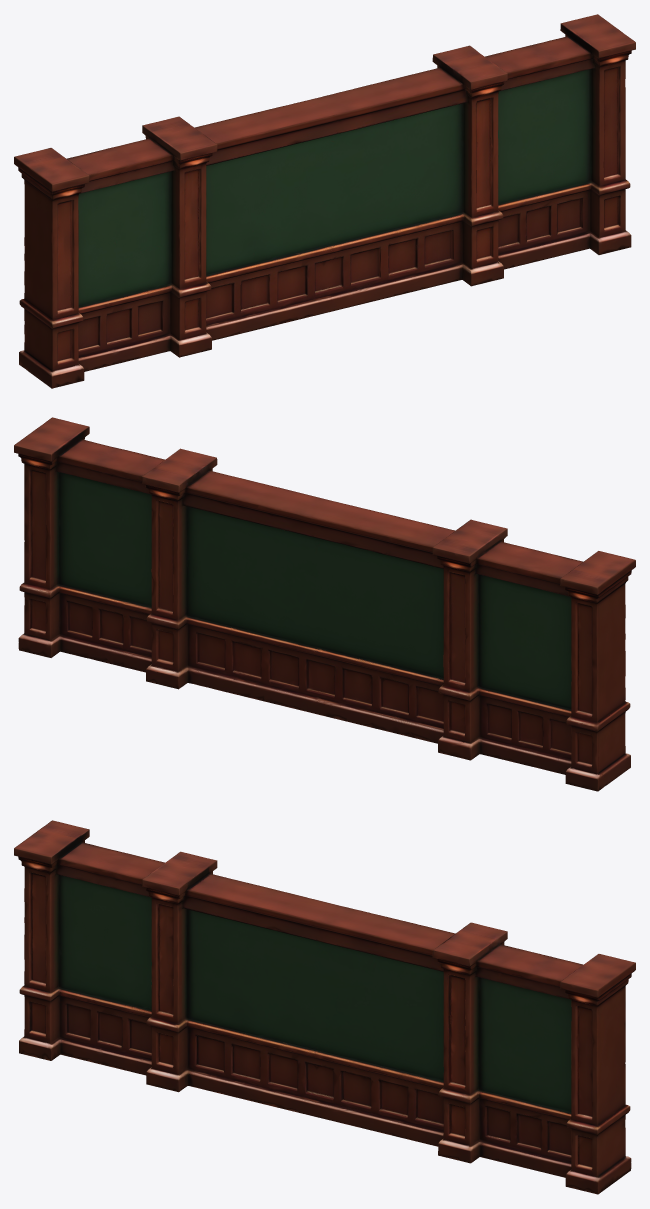
File: wall-blank.glb
3 views of the same model, one above another, from view 1: azimuth 30°, elevation 25°; view 2: azimuth 150°, elevation 25°; view 3: azimuth 330°, elevation 25° (orthographic).
Parts seen in each view (by area): view 1: tripo_node_81f78e80-fa7b-45a2-bda0-d12c6b181274; view 2: tripo_node_81f78e80-fa7b-45a2-bda0-d12c6b181274; view 3: tripo_node_81f78e80-fa7b-45a2-bda0-d12c6b181274.
Part boxes in pixels (<box>): tripo_node_81f78e80-fa7b-45a2-bda0-d12c6b181274: <box>14,14,635,388</box>; tripo_node_81f78e80-fa7b-45a2-bda0-d12c6b181274: <box>14,417,635,791</box>; tripo_node_81f78e80-fa7b-45a2-bda0-d12c6b181274: <box>14,820,635,1194</box>.
Bounding box in the file's own units: 0.9791 × 0.3312 × 0.1117.
Materials: 1 (1 with a texture image).
